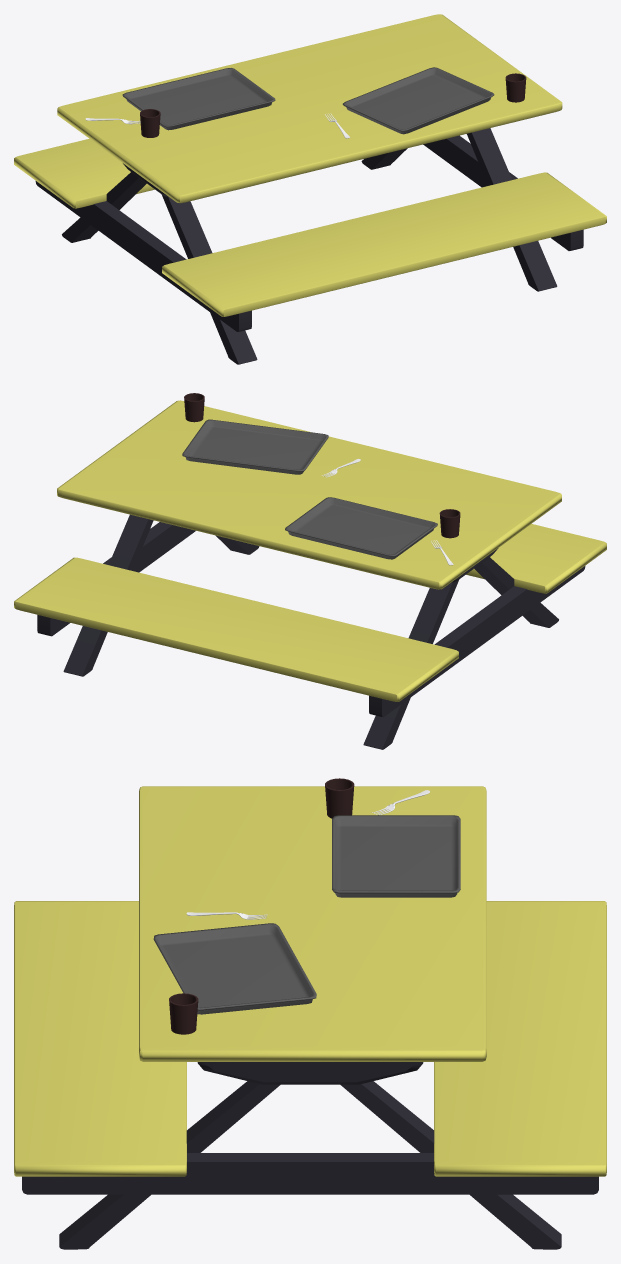
Rendered from Canteen_Table.fbx.
3 views of the same model, one above another, from view 1: azimuth 30°, elevation 25°; view 2: azimuth 150°, elevation 25°; view 3: azimuth 270°, elevation 25° (orthographic). The views are drawn at different scales.
Visible parts, largest first — view 1: Box164, Box166, Base001, Prison_Tray001, Prison_Tray, Box165, Cylinder202, Cylinder201; view 2: Box164, Box165, Base001, Prison_Tray, Prison_Tray001, Box166, Cylinder202, Cylinder201; view 3: Box164, Box166, Box165, Base001, Prison_Tray, Prison_Tray001, Cylinder202, Cylinder201.
Part boxes in pixels (x1,y1,x2,y2): Box164: (57, 14, 562, 203); Box166: (162, 172, 606, 316); Base001: (35, 128, 583, 364); Prison_Tray001: (342, 67, 494, 134); Prison_Tray: (122, 68, 275, 130); Box165: (14, 138, 154, 208); Cylinder202: (505, 73, 526, 102); Cylinder201: (140, 109, 160, 137); Box164: (57, 400, 561, 589); Box165: (14, 557, 458, 701); Base001: (37, 514, 585, 749); Prison_Tray: (285, 497, 437, 559); Prison_Tray001: (182, 419, 328, 474); Box166: (466, 524, 606, 593); Cylinder202: (184, 393, 204, 422); Cylinder201: (439, 509, 460, 538); Box164: (139, 786, 486, 1061); Box166: (14, 901, 186, 1176); Box165: (434, 901, 606, 1176); Base001: (22, 1062, 598, 1249); Prison_Tray: (332, 815, 460, 897); Prison_Tray001: (153, 923, 316, 1014); Cylinder202: (169, 993, 198, 1034); Cylinder201: (325, 778, 354, 818).
Size of the model in its own units: 168 by 73.9 by 158.
